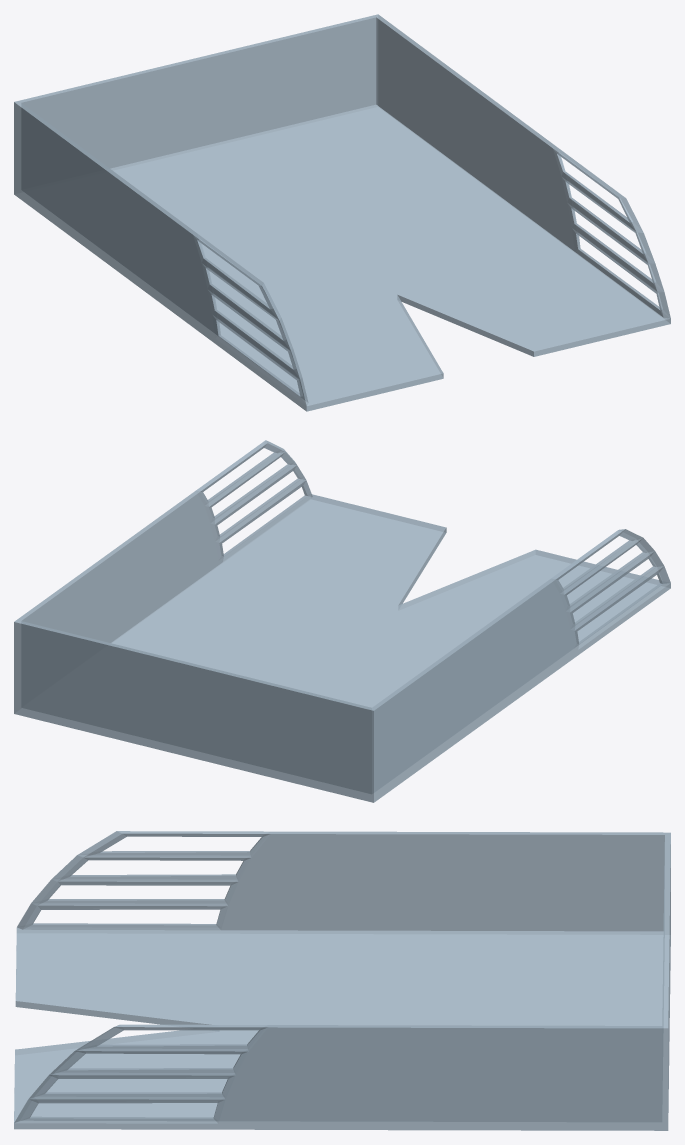
The model's file is bandeja_cartas.glb.
3 renders of one model, top to bottom at view 1: azimuth 30°, elevation 25°; view 2: azimuth 150°, elevation 25°; view 3: azimuth 270°, elevation 25°, orthographic. The views are drawn at different scales.
Parts seen in each view (by area): view 1: bandeja_cartas; view 2: bandeja_cartas; view 3: bandeja_cartas.
Boxes of the visible parts, x1,y1,x2,y2 form: bandeja_cartas: [14, 14, 670, 411]; bandeja_cartas: [14, 440, 670, 802]; bandeja_cartas: [14, 831, 670, 1130].
Bounding box in the file's own units: 26.9 × 6.5 × 37.8.
